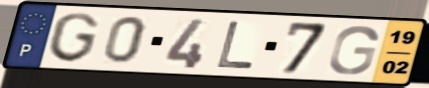0: (102, 14, 150, 66)
4: (161, 15, 206, 71)
7: (283, 19, 330, 76)
G: (46, 11, 102, 65), (326, 25, 381, 77)
L: (213, 19, 258, 71)
